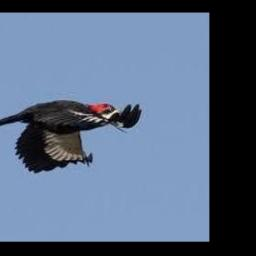Woodpecker: (0, 99, 141, 174)
